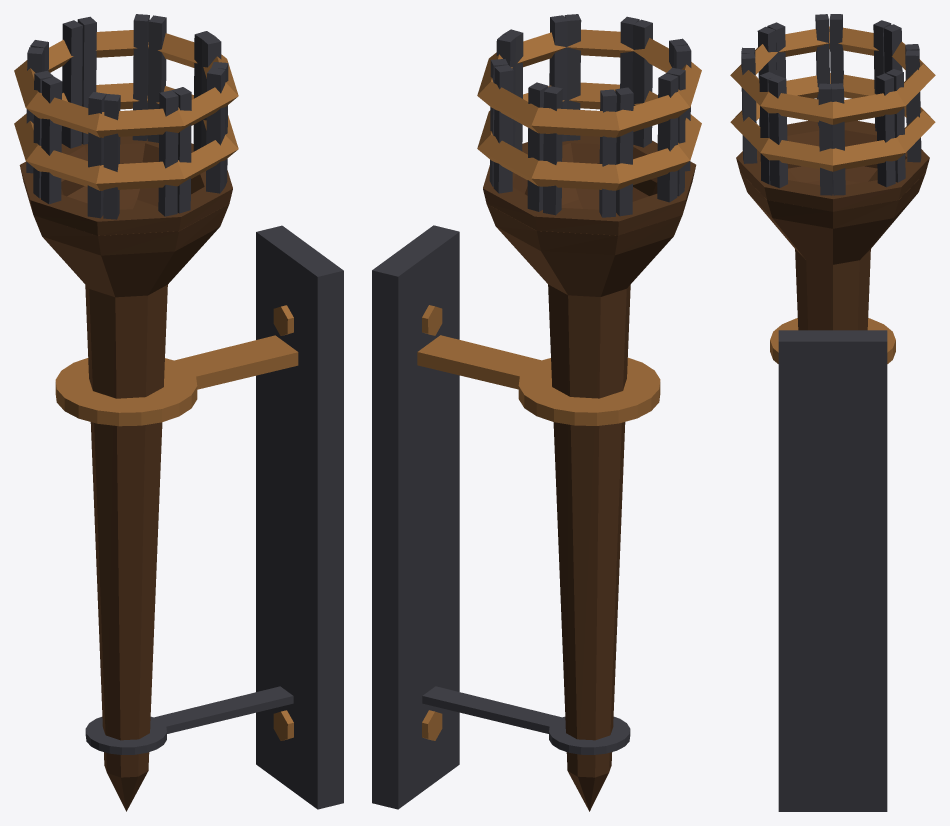
File: Antorcha.fbx
3 renders of one model, left to right at view 1: azimuth 30°, elevation 25°; view 2: azimuth 150°, elevation 25°; view 3: azimuth 270°, elevation 25°, orthographic. The views are drawn at different scales.
Visible parts, largest first — view 1: SM_Antorcha; view 2: SM_Antorcha; view 3: SM_Antorcha.
Part boxes in pixels (x1=…): SM_Antorcha: x1=14, y1=14, x2=343, y2=811; SM_Antorcha: x1=372, y1=14, x2=701, y2=811; SM_Antorcha: x1=730, y1=14, x2=935, y2=811.
Size of the model in its own units: 11.65 by 29.85 by 8.16.
